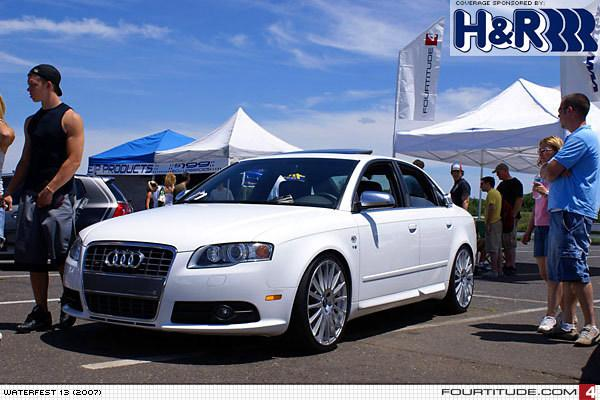Audi: (97, 245, 156, 273)
